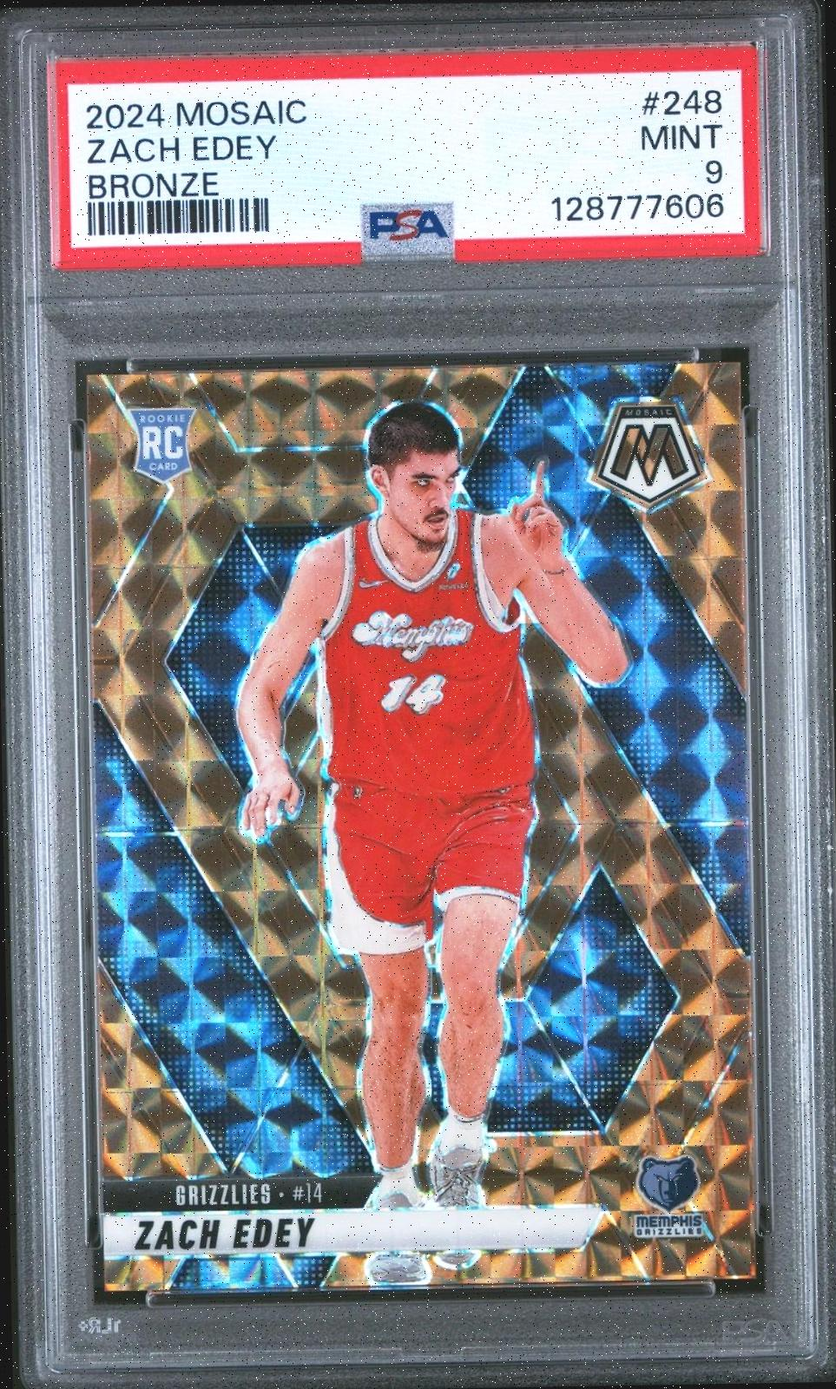card-2UtV: (85, 359, 758, 1294)
